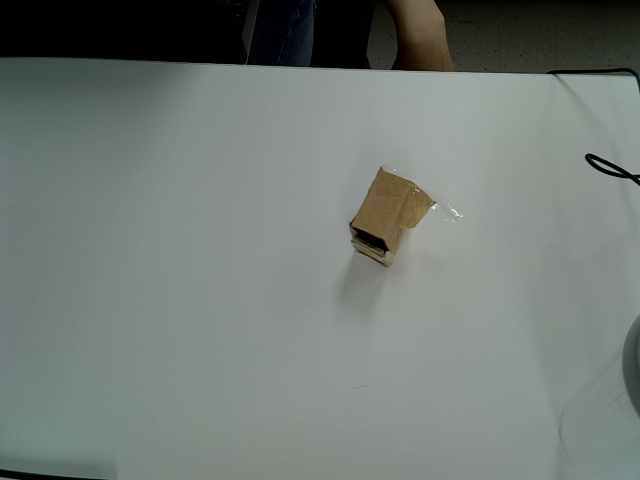defect: (348, 166, 464, 269)
